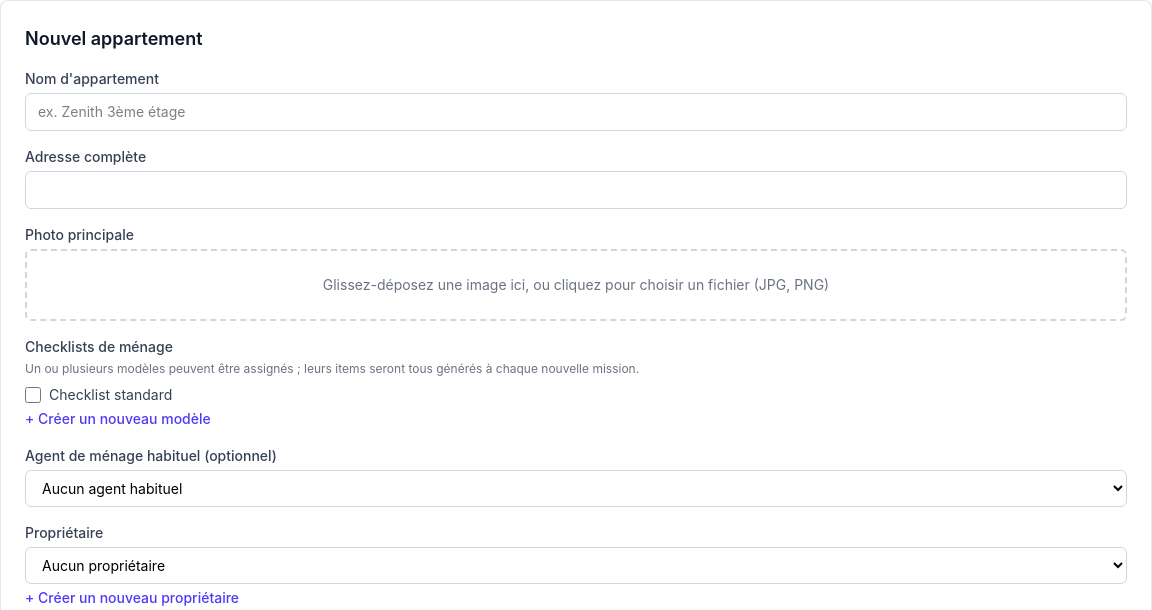
Scenario: NouvelAppartementForm › permet de créer un nouveau modèle de checklist à la volée et le sélectionne
The width and height of the screenshot is (1152, 610).
Click the button "+ Créer un nouveau modèle" at x=118, y=419, box 25,409 -> 211,429
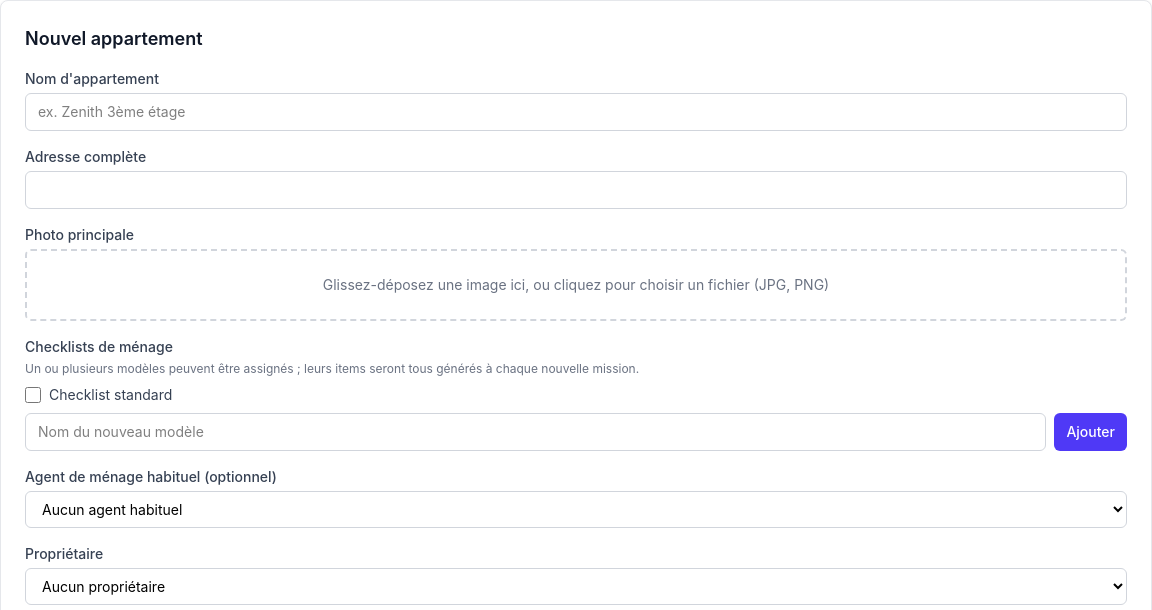
Type "Checklist studio" into the field with placeholder "Nom du nouveau modèle" at x=536, y=432, box 25,413 -> 1046,451
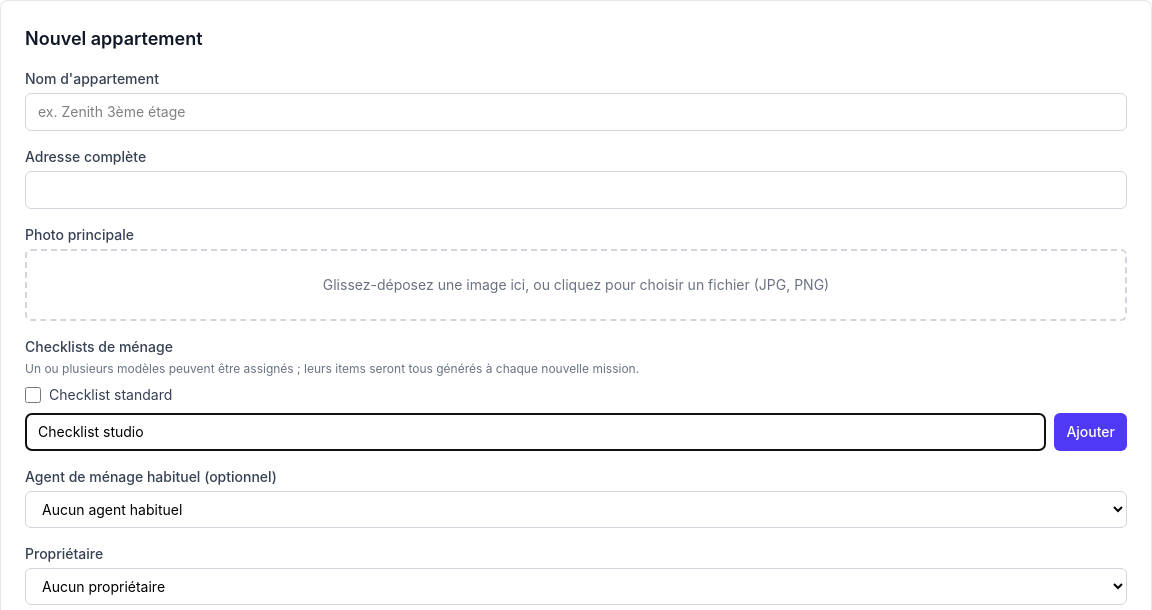
Click the button "Ajouter" at x=1091, y=432, box 1054,413 -> 1127,451
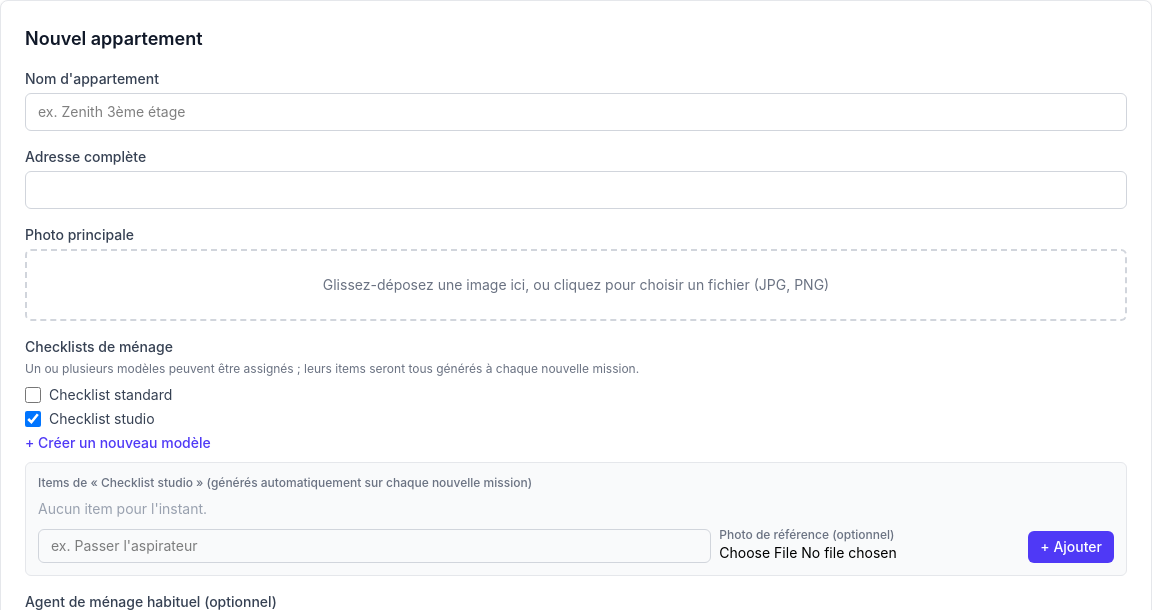
Now the checkbox labelled "Checklist studio" is checked, box 25,411 -> 41,427
